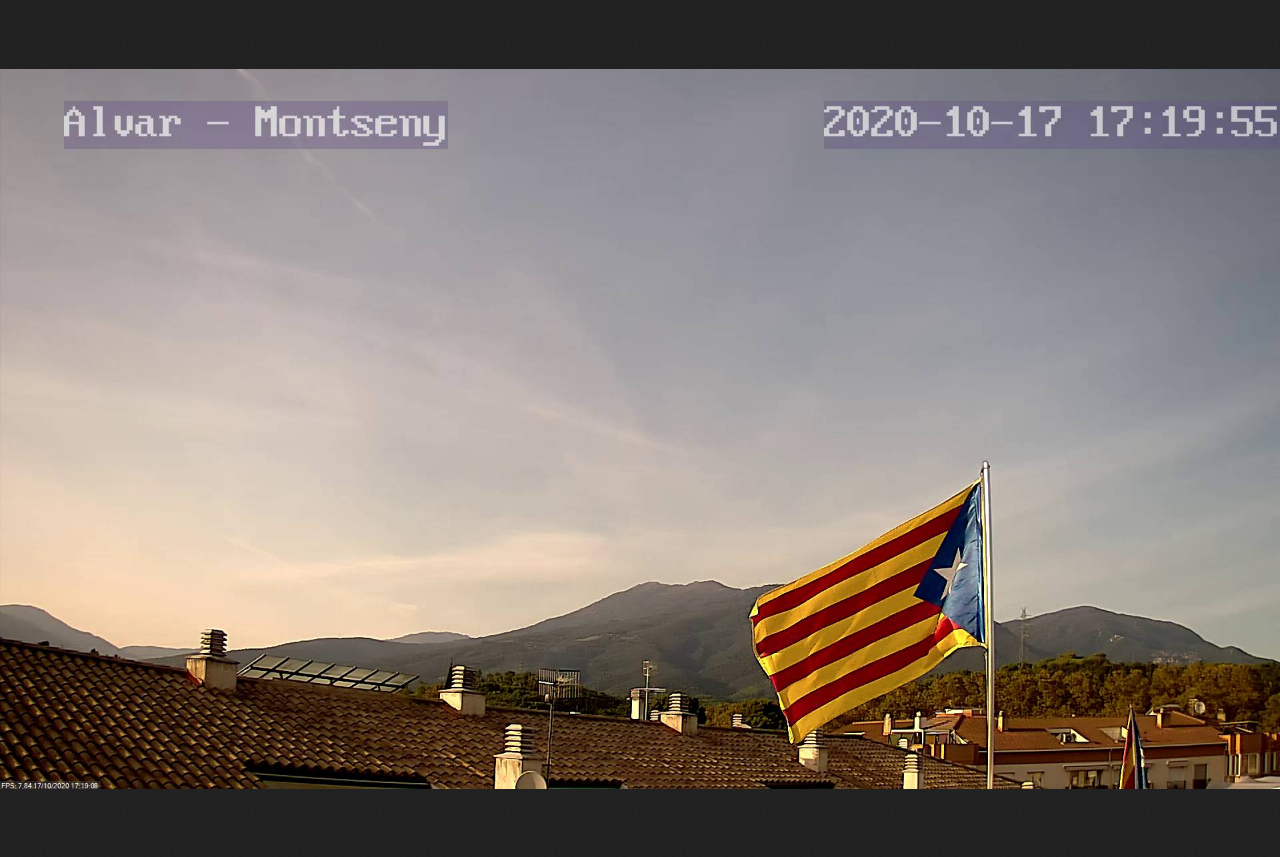maybe: (736, 476, 997, 745)
